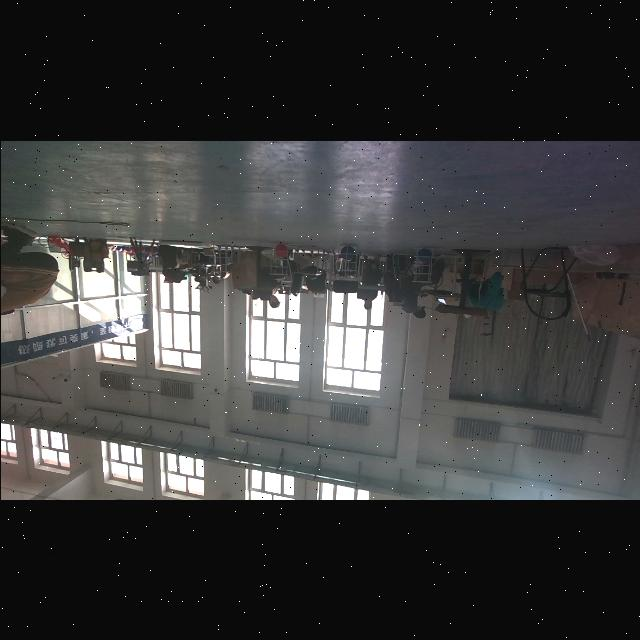B: (414, 247, 434, 261), (338, 244, 358, 258)
R: (274, 242, 288, 255)
S: (408, 244, 438, 286), (334, 242, 360, 282), (266, 239, 292, 277), (210, 239, 233, 277)
